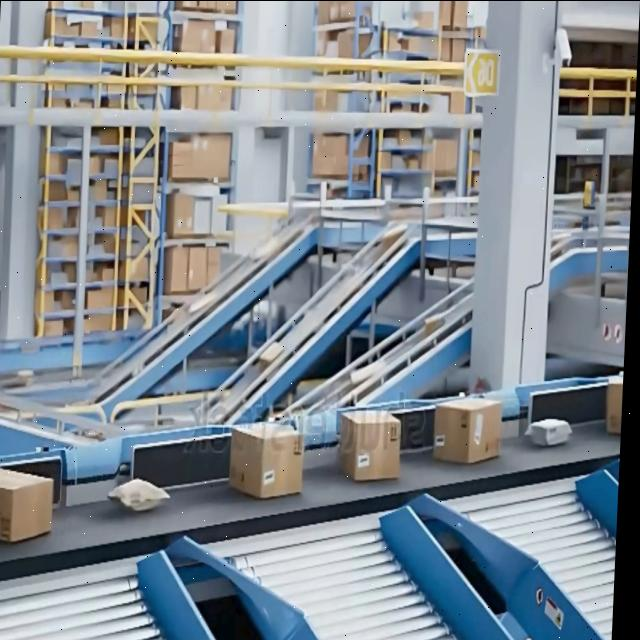product 1: (227, 419, 305, 498), (431, 395, 502, 463), (337, 408, 402, 480)
product 2: (137, 476, 170, 512), (523, 414, 553, 450)
